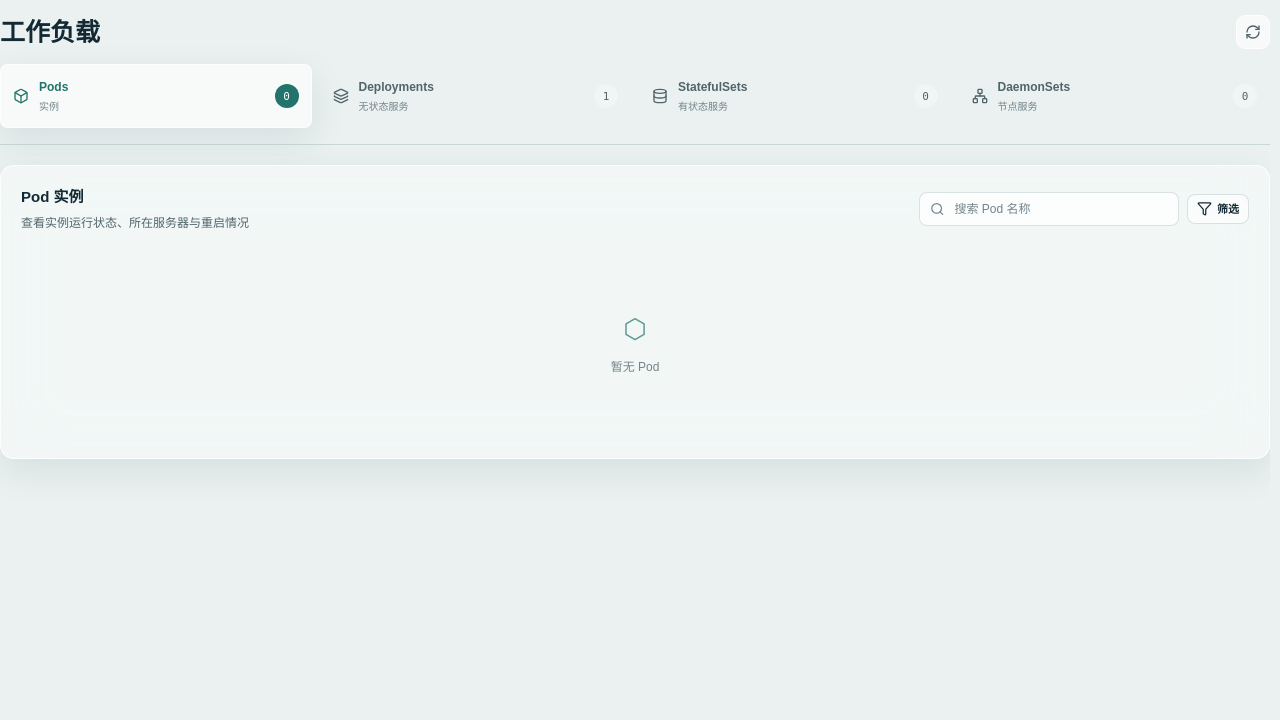
Workloads view › shows revisions in a rollback dialog and retains it on rollback failure
Click the button with class "resource-tab" showing "Deployments 无状态服务 1": (396, 87) [320, 64, 631, 128]
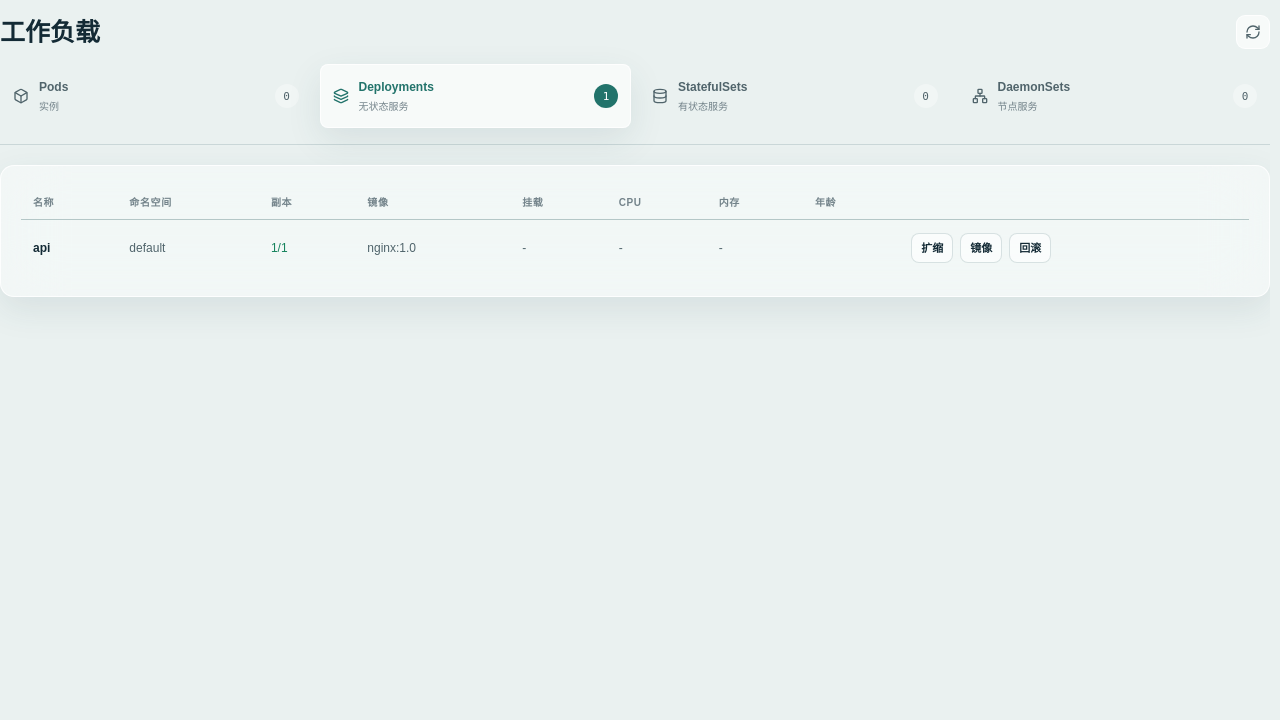
Click the button "回滚": (1030, 248) [1009, 233, 1051, 263]
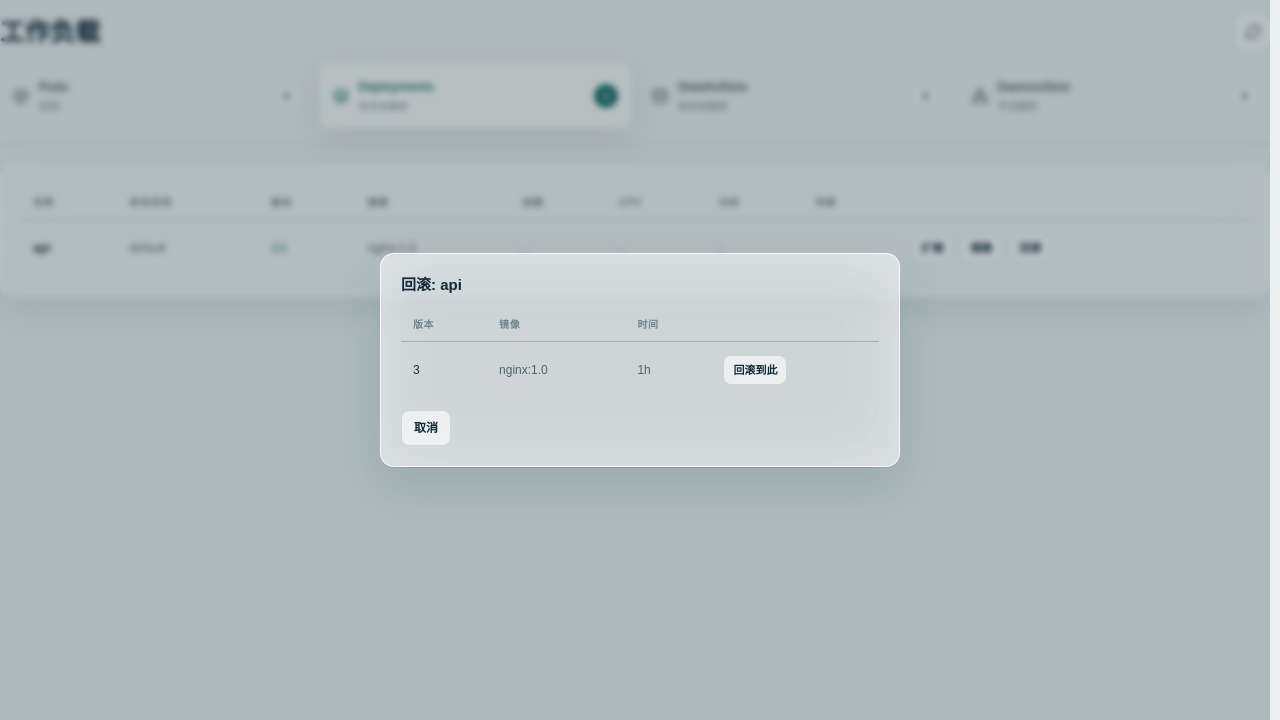
Click the button "回滚到此": (756, 370) [724, 355, 788, 385]
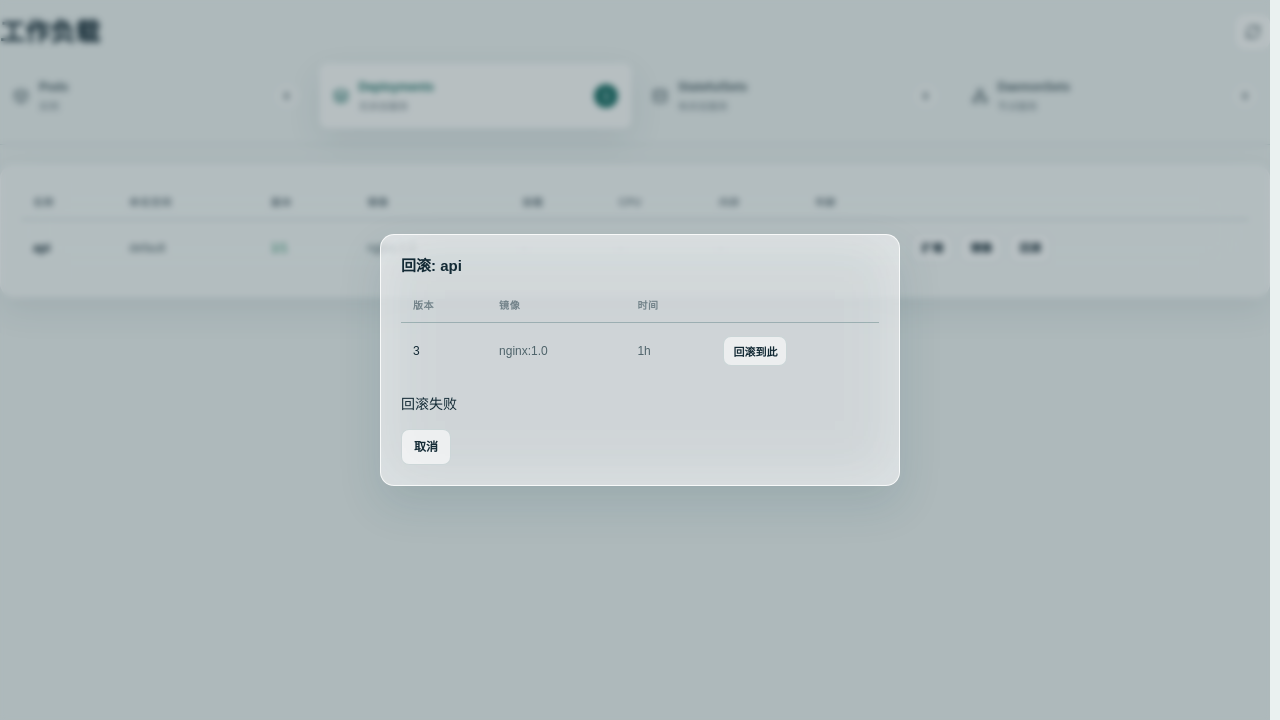
expect the element with class "modal" is shown: met, box [380, 234, 900, 486]
expect the text "回滚失败" is shown: met, box [401, 396, 457, 412]
